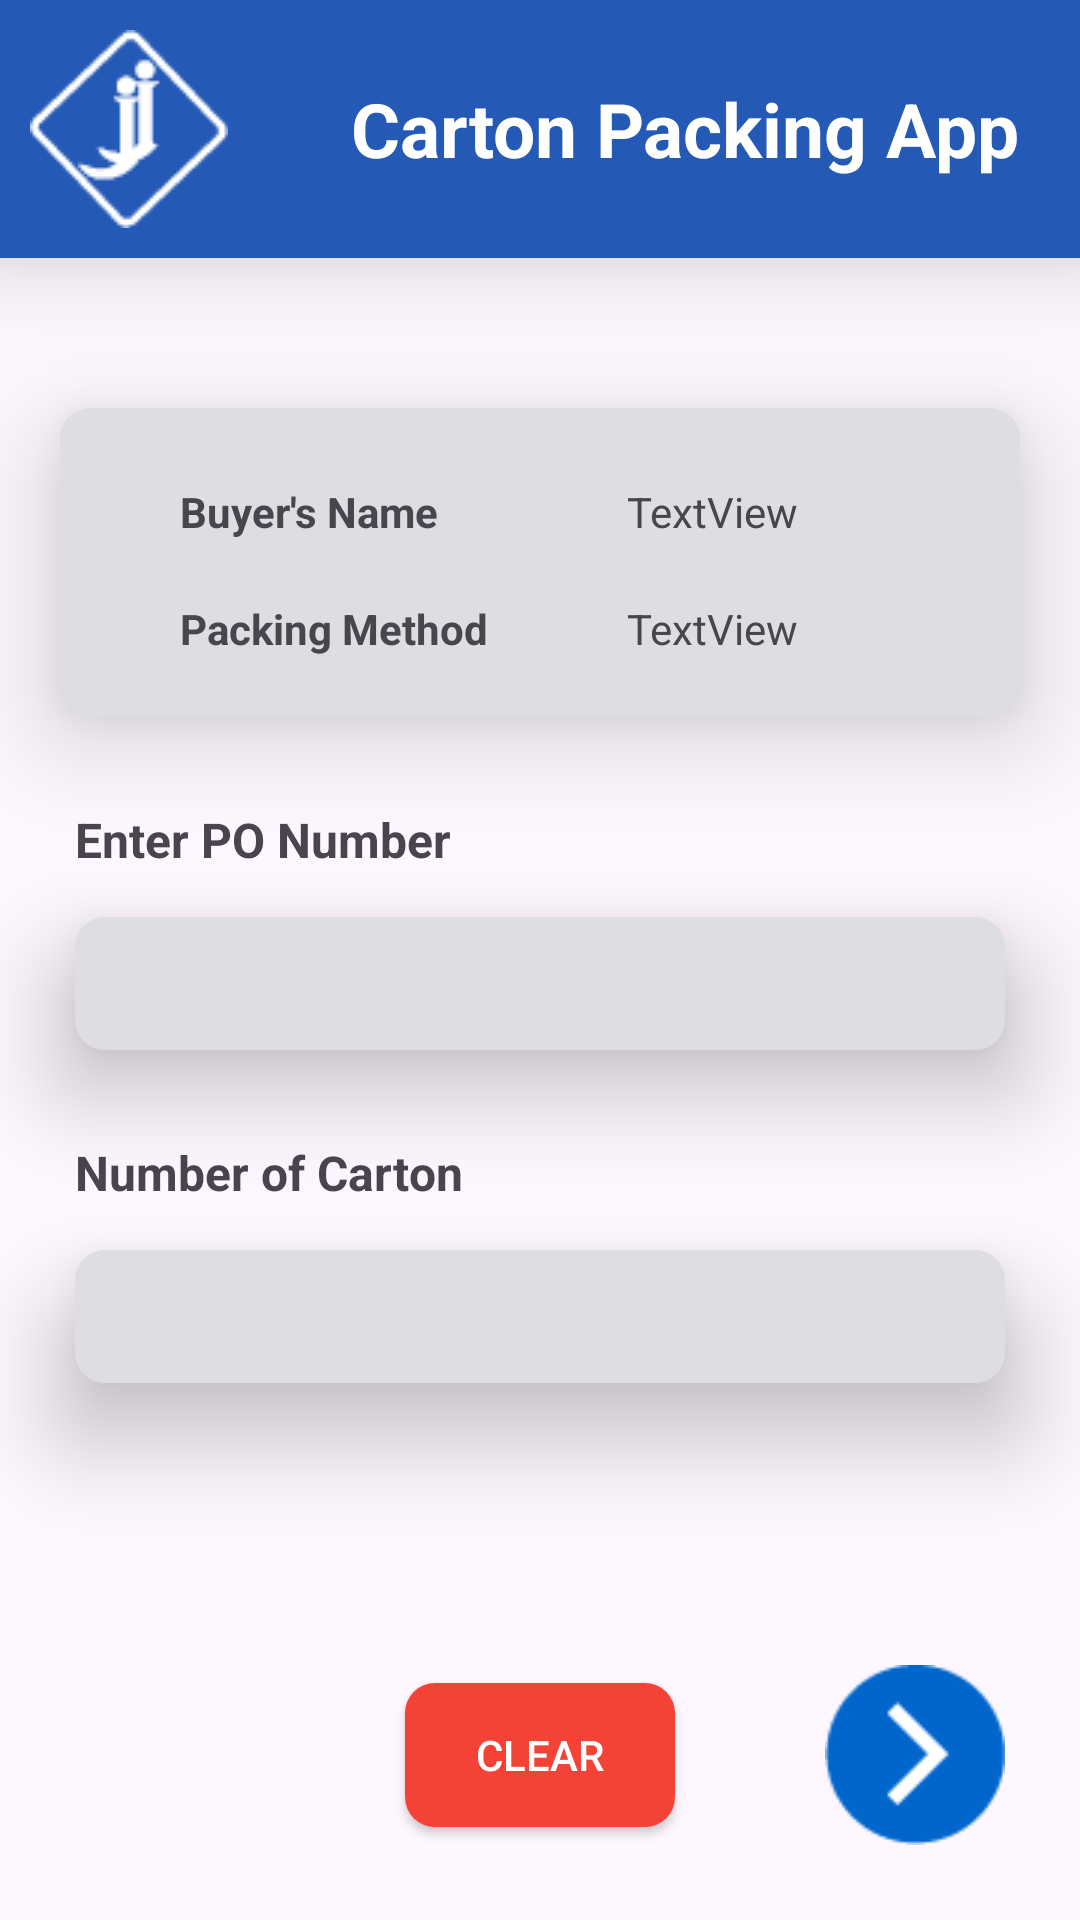

Point at icon controls on the screen. Image size 1080x1920, points as [x,y].
forward: [915,1755]
